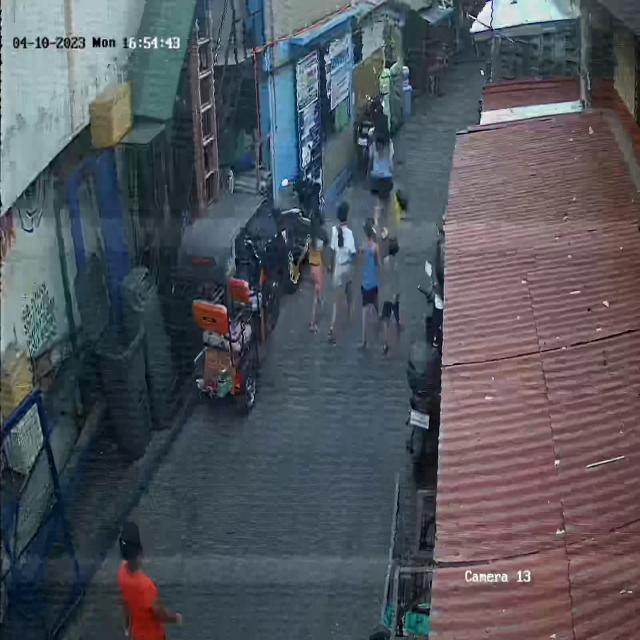human: (366, 115, 408, 239), (389, 180, 411, 223)
